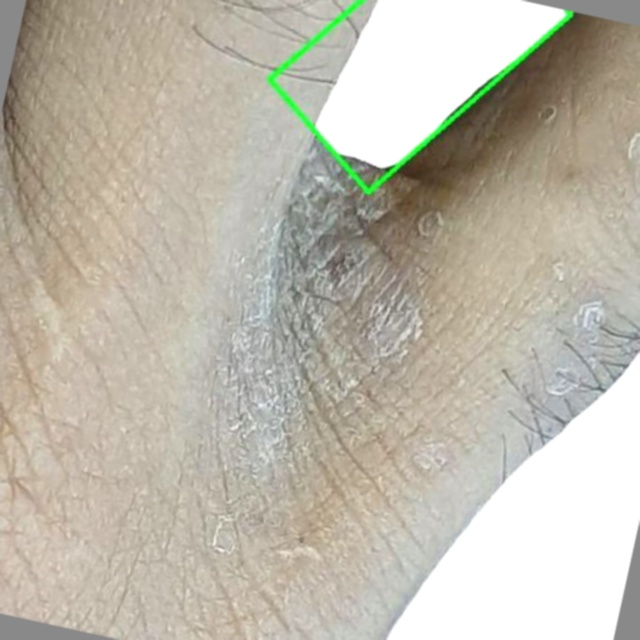Scabies: (270, 0, 572, 191)
